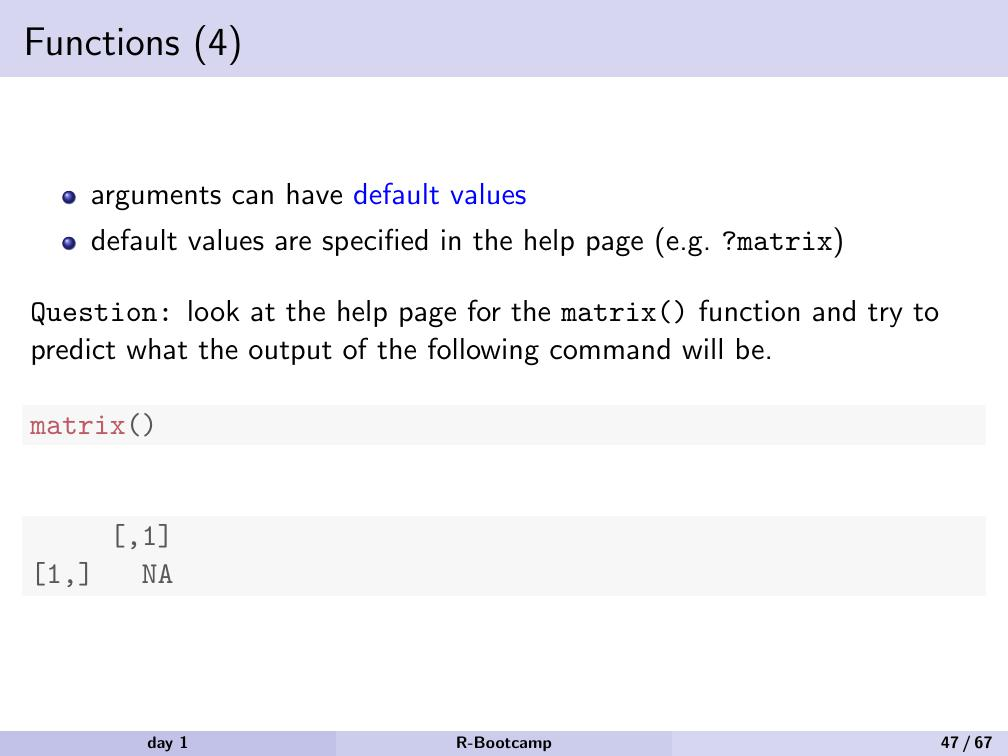Title: (15, 15, 249, 72)
